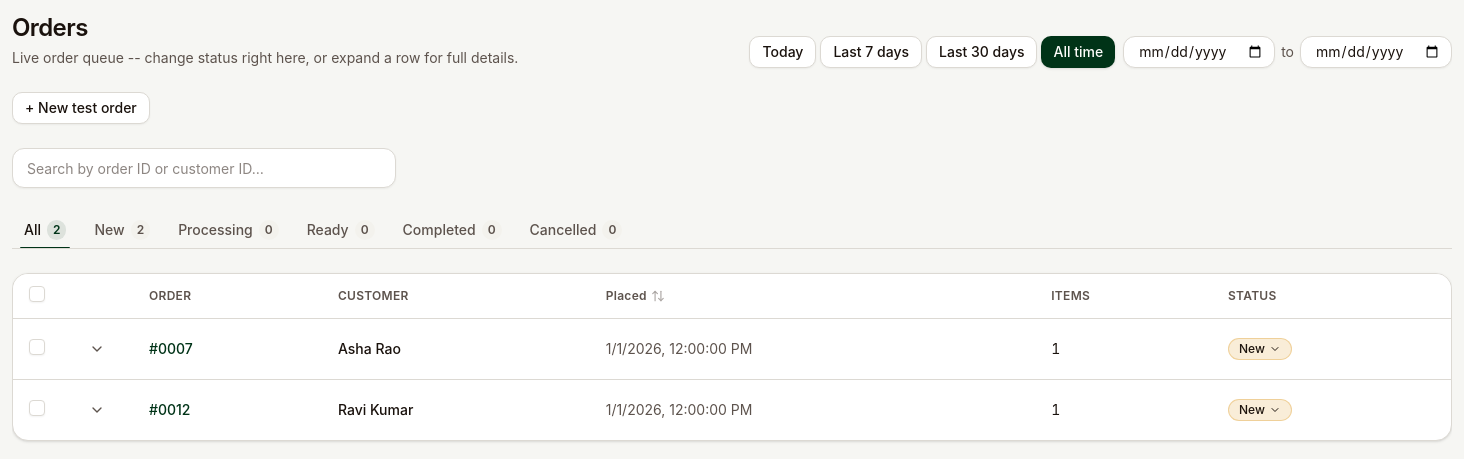
Test: OrdersPage › filters by order ID or customer ID via the search input
Expected: the text "Asha Rao" is shown, [322, 318, 590, 379]
Expected: the text "Ravi Kumar" is shown, [322, 379, 590, 440]
Type "#0007" into the search field named "Search orders" at (204, 168), box [12, 148, 396, 188]
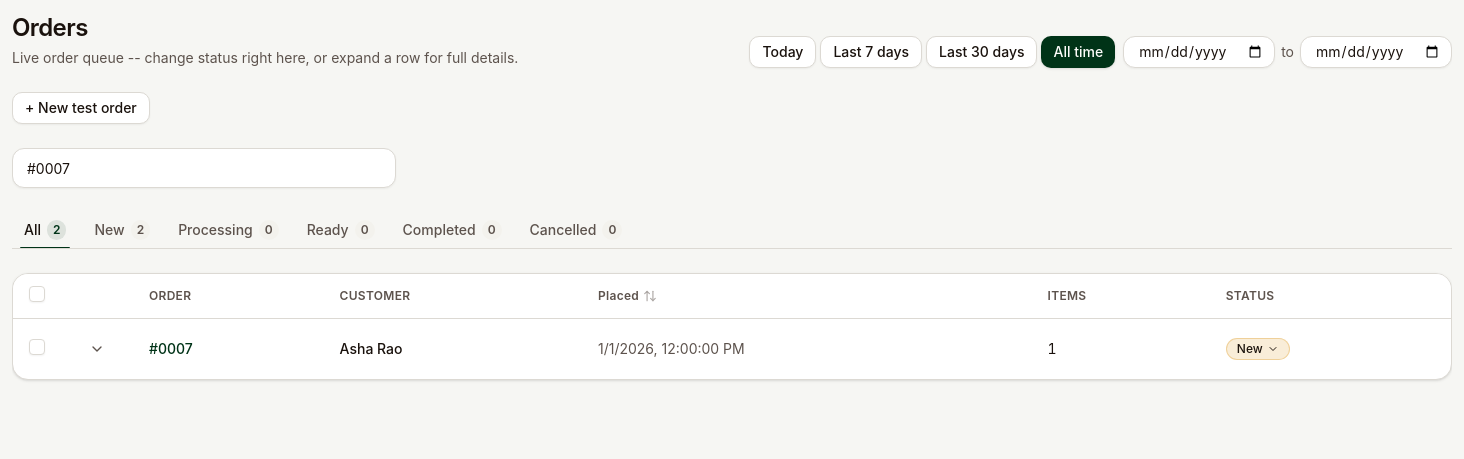
Expected: the text "Asha Rao" is shown, [324, 318, 582, 378]
Expected: the text "Ravi Kumar" is gone
Replace the text in the search field named "Search orders" with "#0009" at (204, 168), box [12, 148, 396, 188]
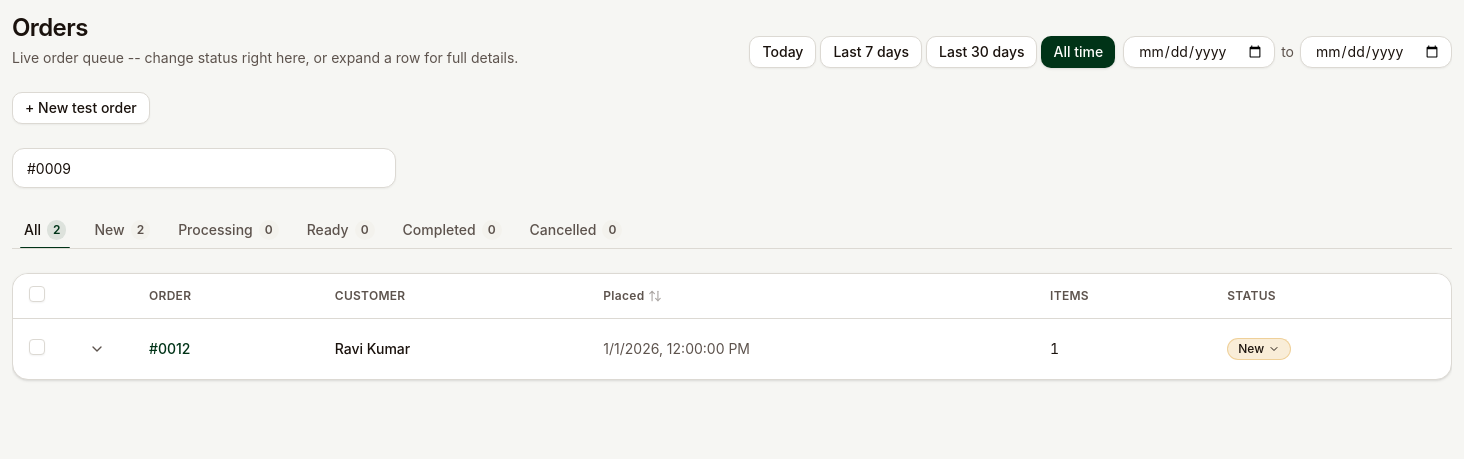
Expected: the text "Asha Rao" is gone
Expected: the text "Ravi Kumar" is shown, [319, 318, 587, 378]
